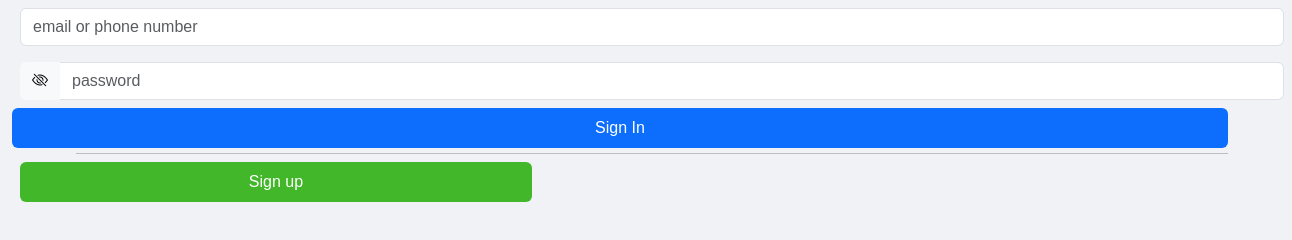
Shows password message when clicking on the password input
The image size is (1292, 240).
Note: Click on the password input
Click the password field labelled "password" at x=672, y=81, box [59,62,1284,100]
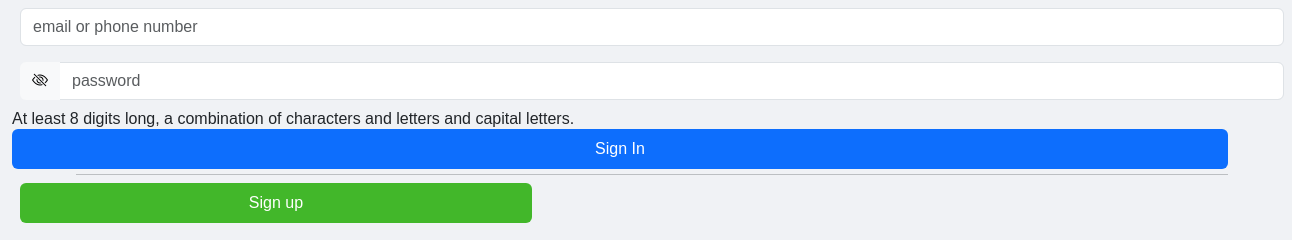
Now the text "At least 8 digits long, a combination of characters and letters and capital letters." is shown, box [12,110,574,127]
